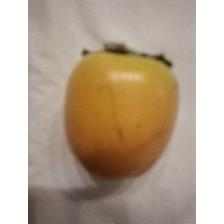Kaki: (62, 36, 182, 184)
